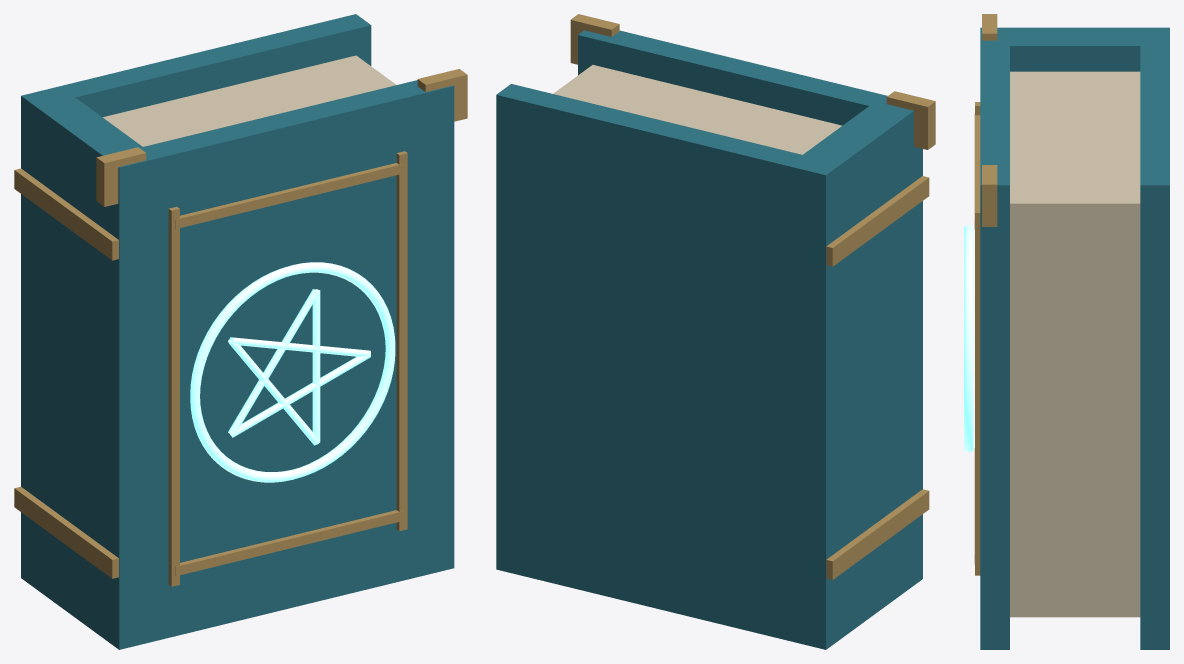
The model's file is grimoire-frontend.glb.
3 renders of one model, left to right at view 1: azimuth 30°, elevation 25°; view 2: azimuth 150°, elevation 25°; view 3: azimuth 270°, elevation 25°, orthographic. The views are drawn at different scales.
Visible parts, largest first — view 1: Grimoire_1_teal, Grimoire_1_gold, Grimoire_1_glow, Grimoire_1_paper; view 2: Grimoire_1_teal, Grimoire_1_paper, Grimoire_1_gold; view 3: Grimoire_1_paper, Grimoire_1_teal, Grimoire_1_gold, Grimoire_1_glow.
Boxes of the visible parts, box(x1,y1,x2,y2) form: Grimoire_1_teal: box(21, 14, 454, 649); Grimoire_1_gold: box(14, 69, 467, 586); Grimoire_1_glow: box(190, 262, 395, 482); Grimoire_1_paper: box(103, 55, 396, 146); Grimoire_1_teal: box(496, 30, 922, 649); Grimoire_1_paper: box(553, 65, 841, 154); Grimoire_1_gold: box(570, 14, 935, 579); Grimoire_1_paper: box(1010, 71, 1140, 617); Grimoire_1_teal: box(980, 27, 1169, 649); Grimoire_1_gold: box(974, 14, 997, 575); Grimoire_1_glow: box(964, 224, 973, 452).
Bounding box in the file's own units: 0.52 × 0.67 × 0.2651.
